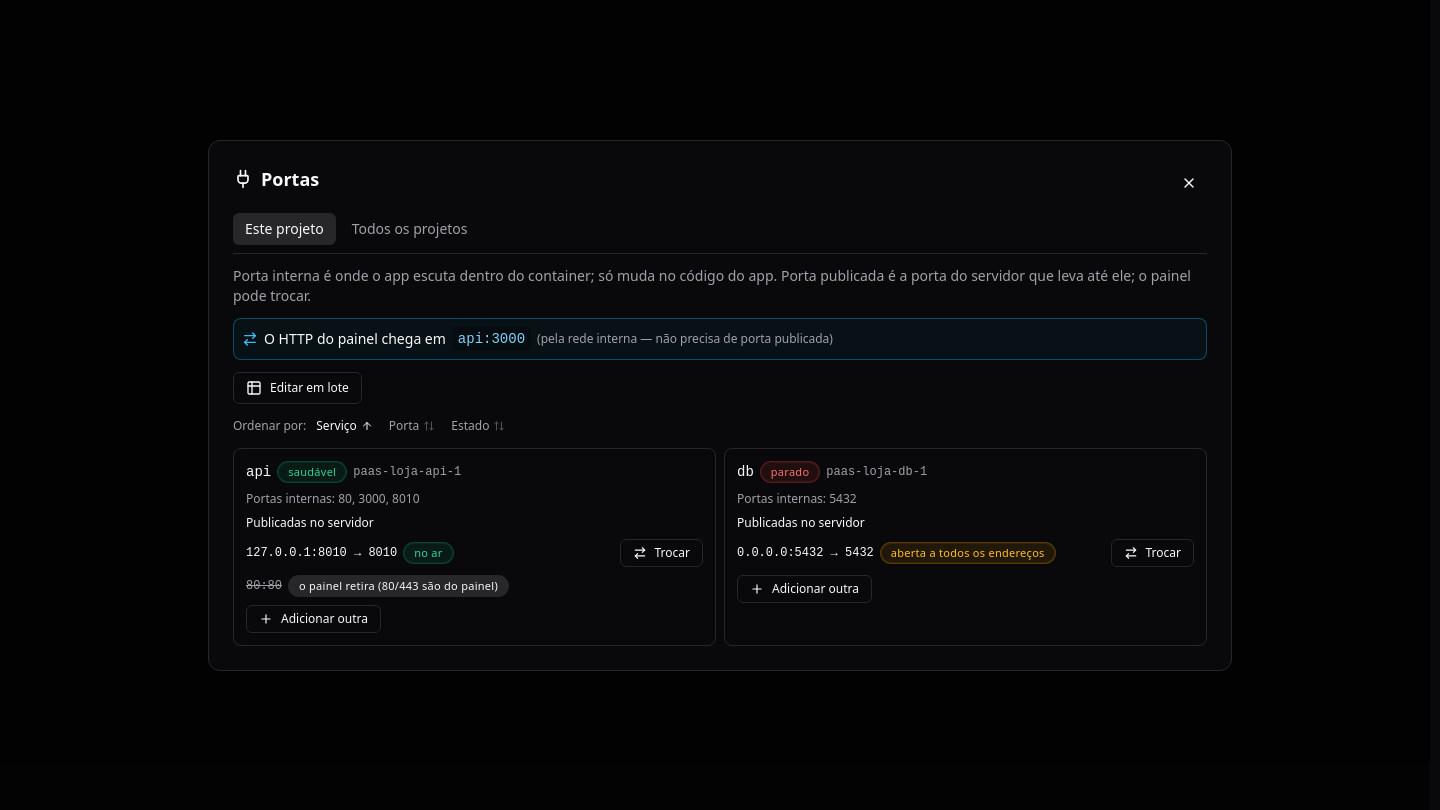
aba Este projeto › erro do servidor fica no formulário
Click the button "Trocar" in the row of "no ar" at [661, 552], box [620,538,703,566]
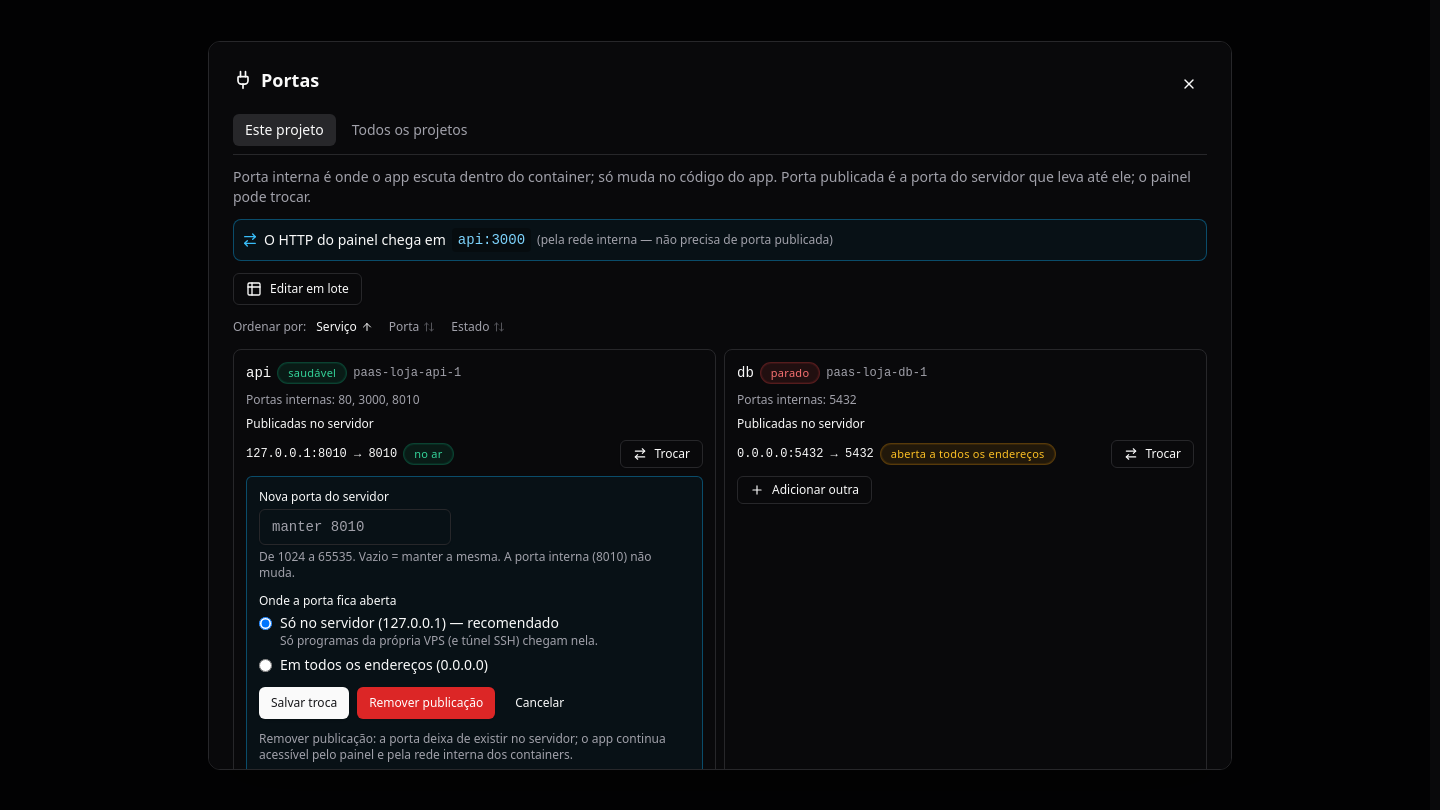
Type "18010" into the field labelled "Nova porta do servidor" at [355, 526], box [259,508,451,544]
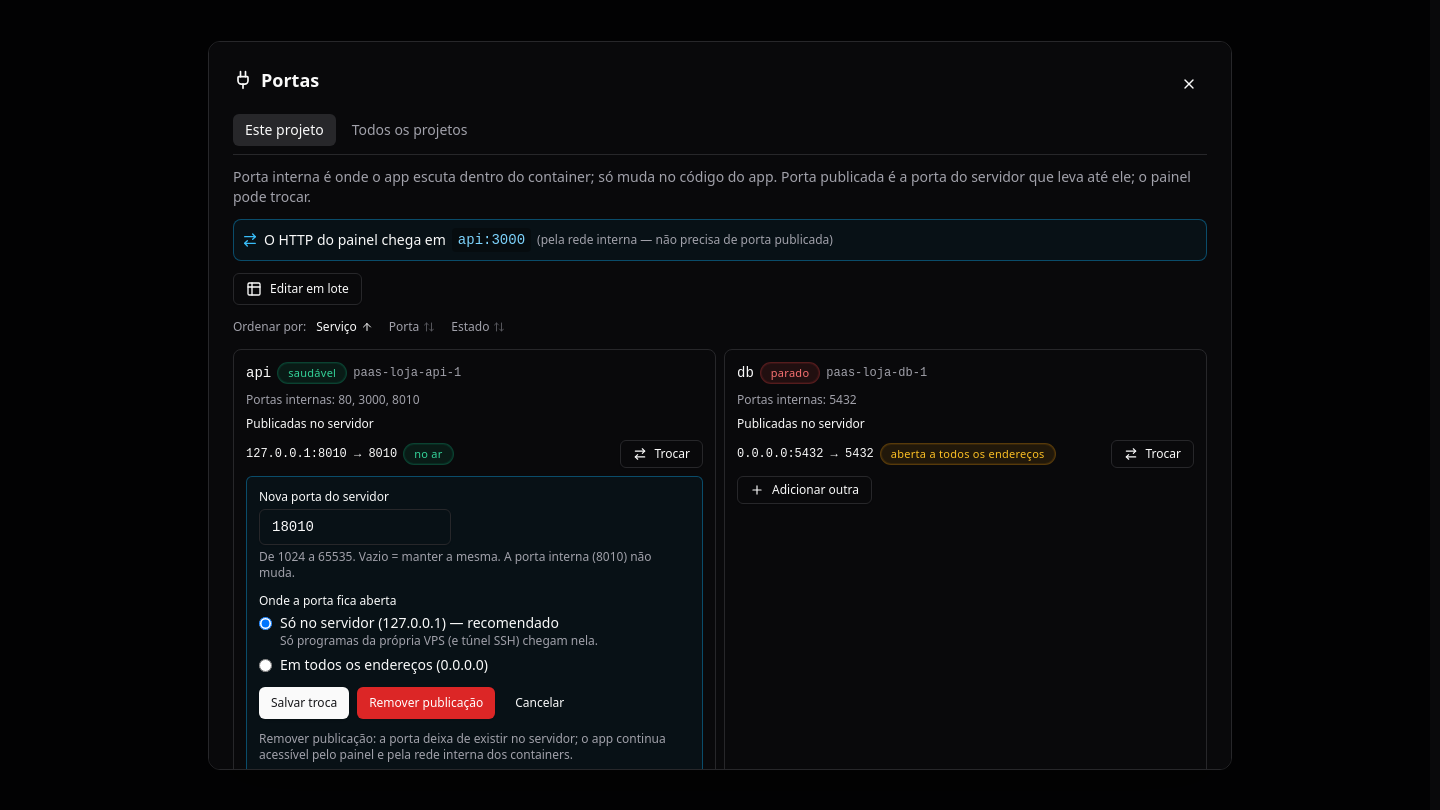
Click the button "Salvar troca" at [304, 702], box [259,686,349,718]
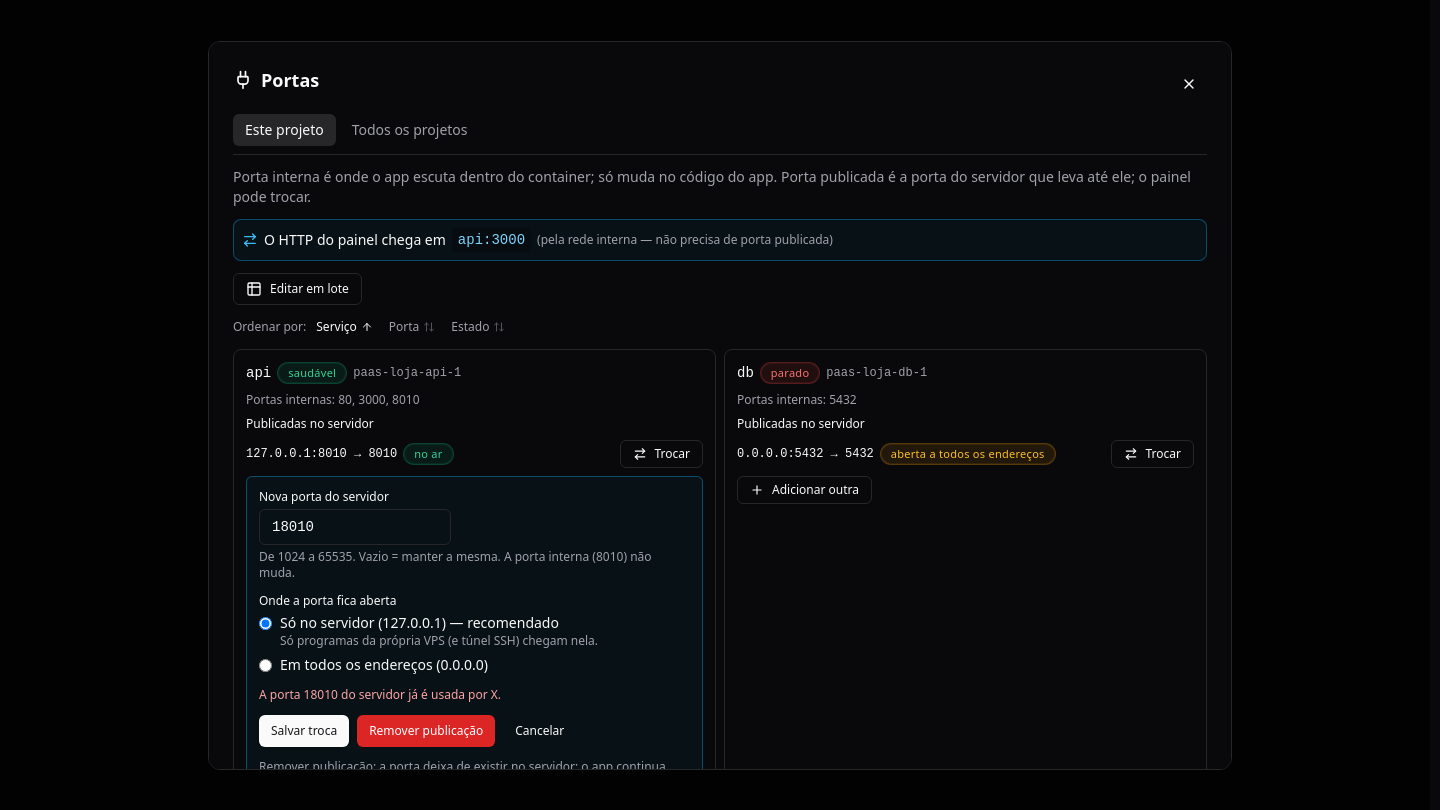
Result: the text with test id "port-form-error" shows "já é usada por X" at [259,686,501,702]
Click the button "Cancelar" at [540, 730], box [503,714,576,746]
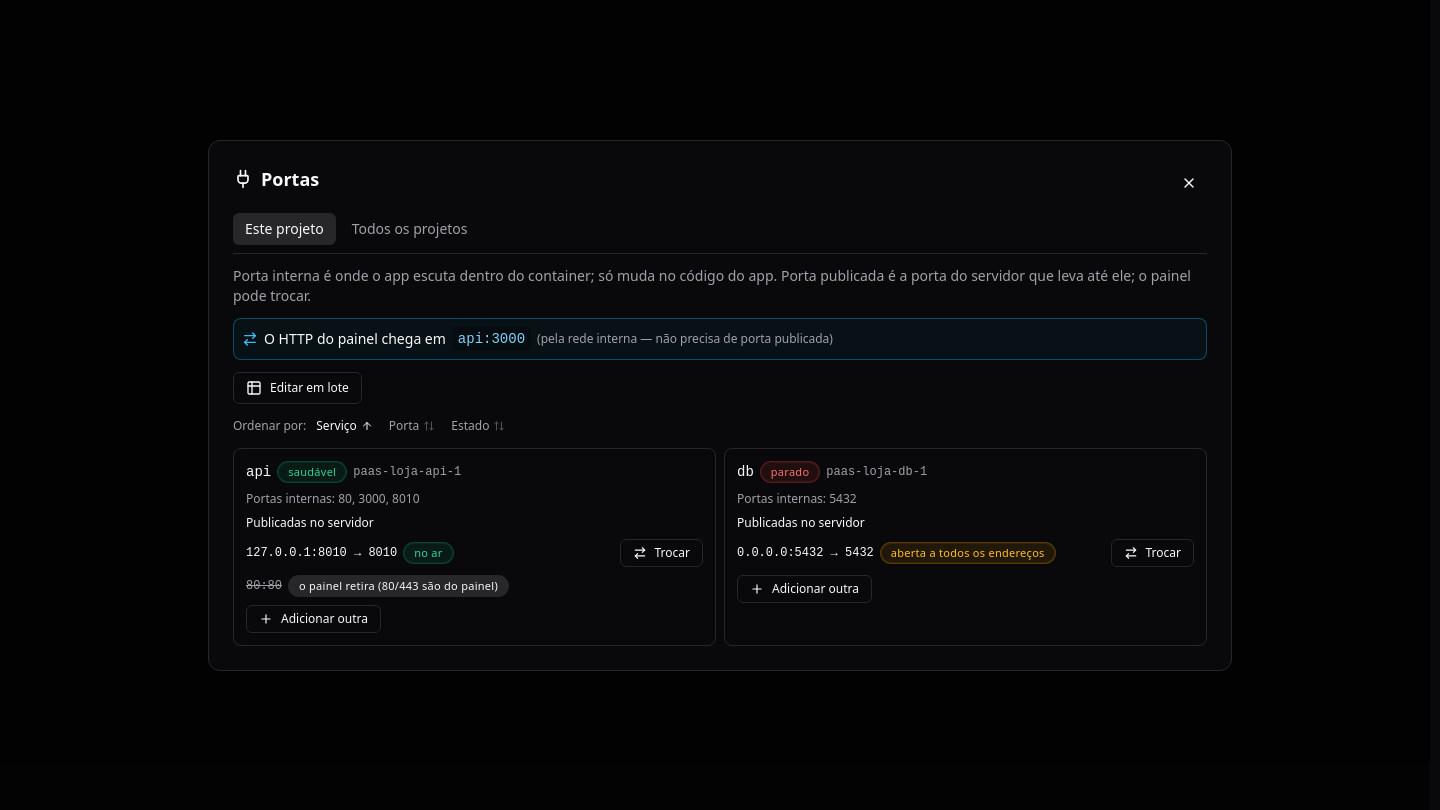
Result: the label labelled "Nova porta do servidor" is gone
